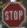Stop sign: (0, 0, 26, 27)
